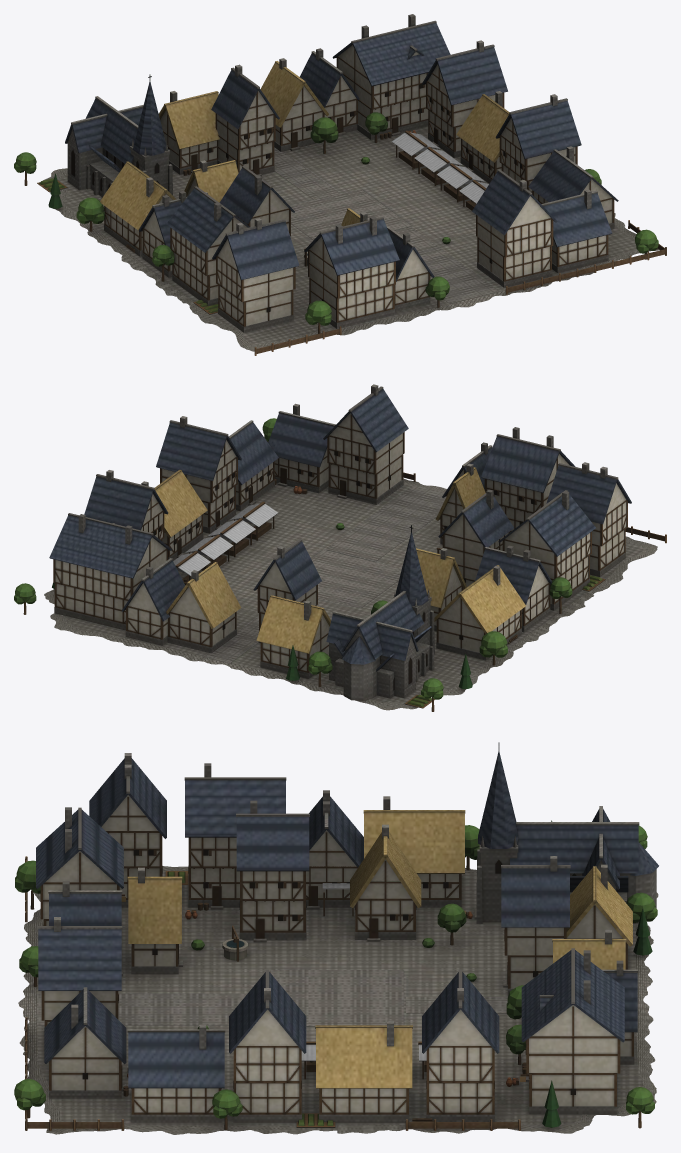
File: kingdoms-town-medium-a.glb
3 renders of one model, top to bottom at view 1: azimuth 30°, elevation 25°; view 2: azimuth 150°, elevation 25°; view 3: azimuth 270°, elevation 25°, orthographic. The views are drawn at different scales.
Visible parts, largest first — view 1: LOD0; view 2: LOD0; view 3: LOD0.
Part boxes in pixels (x1,y1,x2,y2): LOD0: [14, 14, 666, 355]; LOD0: [14, 384, 666, 711]; LOD0: [14, 742, 658, 1134].
Size of what is drawn, in the model's own units: 6.06 by 1.8 by 6.09.
Materials: 3 (3 with a texture image).
